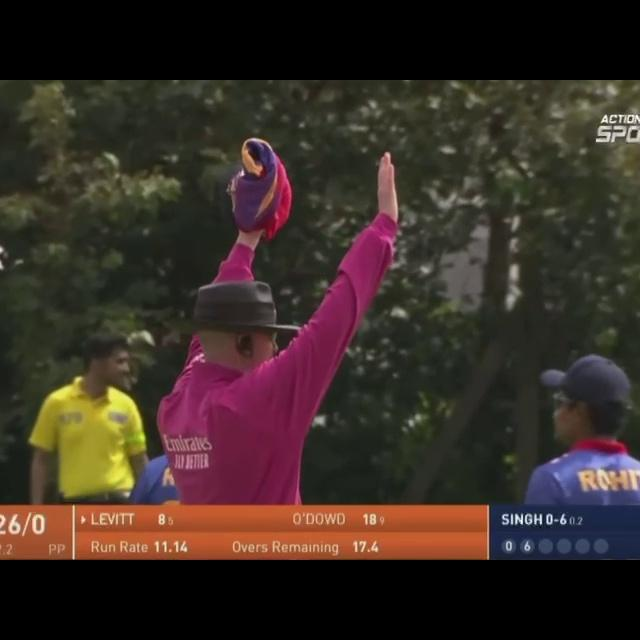umpire: (103, 107, 487, 508)
